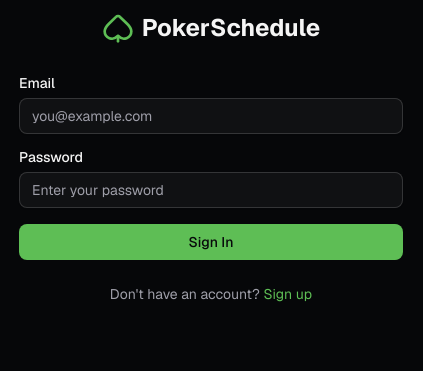
Test: LoginForm › shows error message on failed sign-in
Type "wrong@example.com" into the field labelled "Email" at (211, 116), box [19,98,403,134]
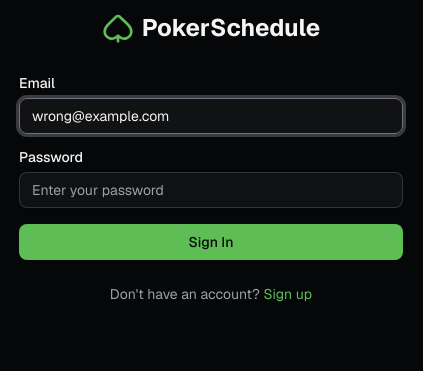
Type "wrongpass" into the password field labelled "Password" at (211, 190), box [19,172,403,208]
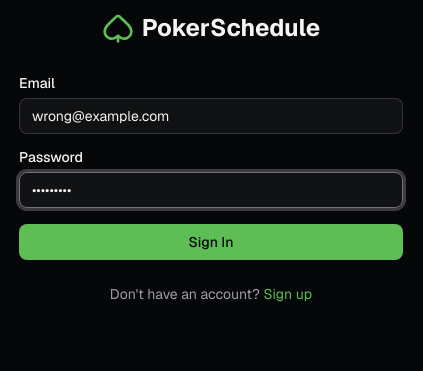
Click the button "Sign In" at (211, 242), box [19,224,403,260]
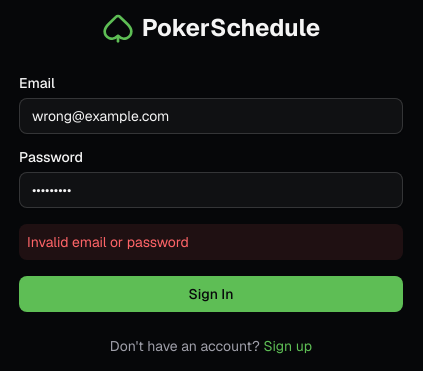
Result: the text "Invalid email or password" is shown at [19,224,403,260]
